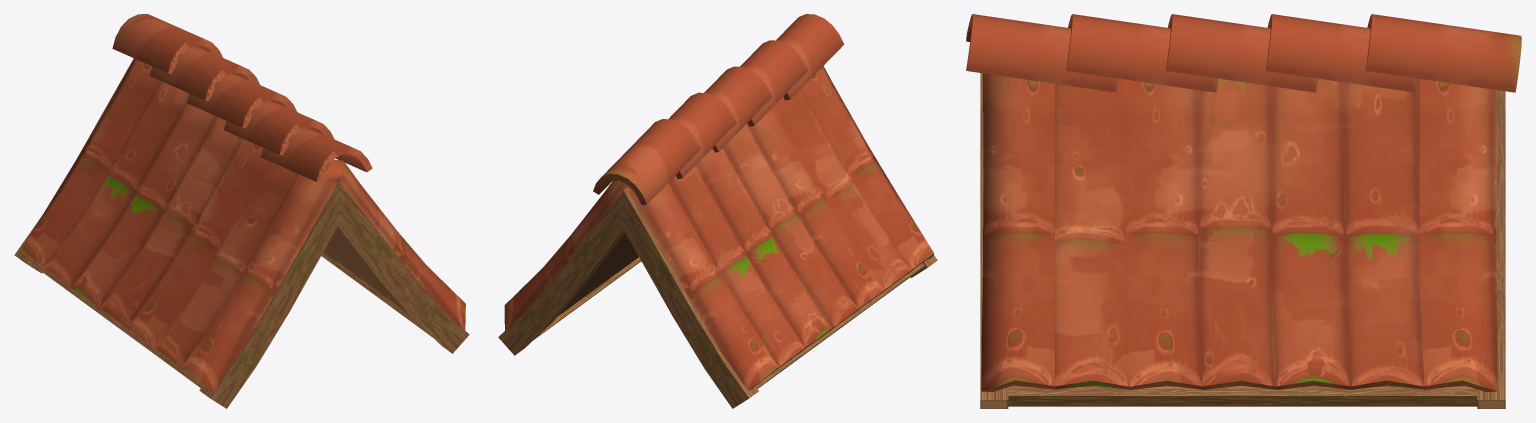
Rendered from Roof_2x4_RoundTile.gltf.
3 renders of one model, left to right at view 1: azimuth 30°, elevation 25°; view 2: azimuth 150°, elevation 25°; view 3: azimuth 270°, elevation 25°, orthographic. The views are drawn at different scales.
Visible parts, largest first — view 1: Roof_2x4_RoundTile; view 2: Roof_2x4_RoundTile; view 3: Roof_2x4_RoundTile.
Part boxes in pixels (x1=…): Roof_2x4_RoundTile: x1=14, y1=14, x2=469, y2=408; Roof_2x4_RoundTile: x1=498, y1=14, x2=937, y2=408; Roof_2x4_RoundTile: x1=966, y1=14, x2=1521, y2=408.
Bounding box in the file's own units: 3.29 × 2.67 × 4.23.
2 materials, 2 textured.
